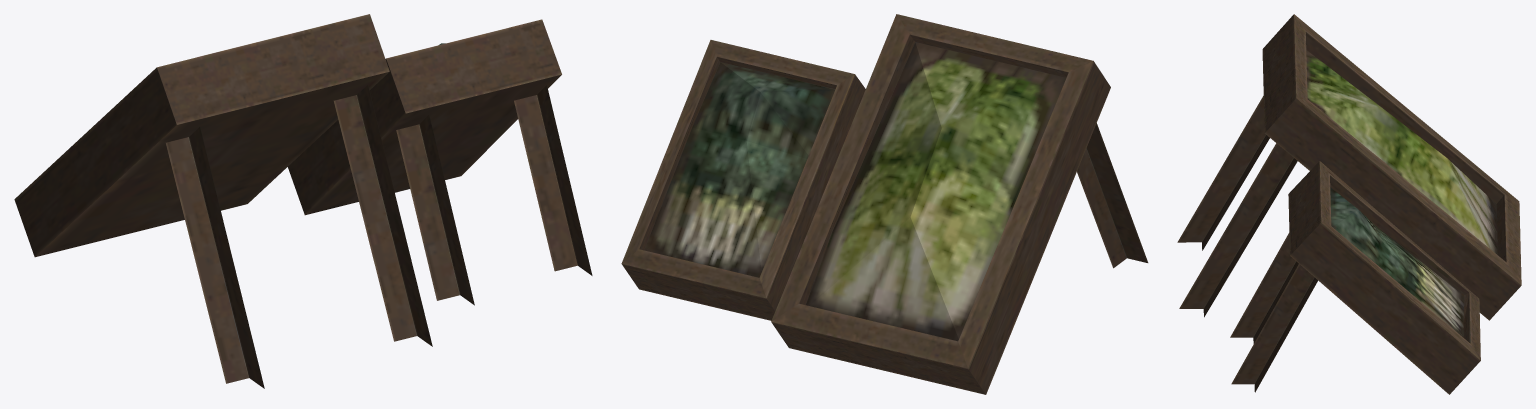
Rendered from 小草药架01.fbx.
3 views of the same model, side by side, from view 1: azimuth 30°, elevation 25°; view 2: azimuth 150°, elevation 25°; view 3: azimuth 270°, elevation 25° (orthographic). The views are drawn at different scales.
Visible parts, largest first — view 1: qingmo_obj_423 [10484306]; view 2: qingmo_obj_423 [10484306]; view 3: qingmo_obj_423 [10484306].
Boxes of the visible parts, box(x1,y1,x2,y2) form: qingmo_obj_423 [10484306]: box(14, 14, 592, 388); qingmo_obj_423 [10484306]: box(621, 14, 1148, 394); qingmo_obj_423 [10484306]: box(1177, 14, 1521, 394).
Size of the model in its own units: 8.88 by 8.1 by 5.81.
Materials: 1 (1 with a texture image).
